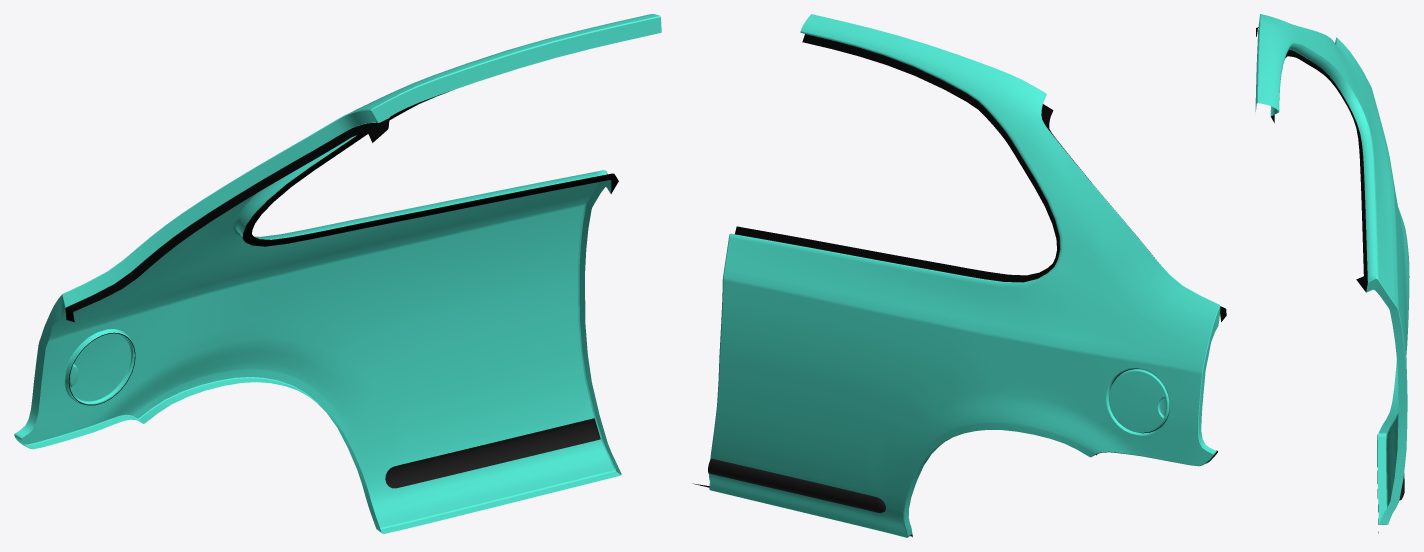
The picture shows the model from 3 angles, left to right: view 1: azimuth 30°, elevation 25°; view 2: azimuth 150°, elevation 25°; view 3: azimuth 270°, elevation 25°; orthographic projection. The views are drawn at different scales.
Visible parts, largest first — view 1: H025_10_381B_L_H025_10_381B_L_1_DaS, H025_10_381B_L_3_D_H025_10_381B_L, H025_10_381B_L_H025_10_381B_L_2_D, H025_10_381B_L_H025_10_381B_L_1_DaS_E; view 2: H025_10_381B_L_H025_10_381B_L_1_DaS, H025_10_381B_L_3_D_H025_10_381B_L, H025_10_381B_L_H025_10_381B_L_1_DaS_E, H025_10_381B_L_H025_10_381B_L_2_D; view 3: H025_10_381B_L_H025_10_381B_L_1_DaS, H025_10_381B_L_3_D_H025_10_381B_L, H025_10_381B_L_H025_10_381B_L_1_DaS_E.
Boxes of the visible parts, x1,y1,x2,y2 form: H025_10_381B_L_H025_10_381B_L_1_DaS: (14, 14, 661, 534); H025_10_381B_L_3_D_H025_10_381B_L: (65, 91, 618, 405); H025_10_381B_L_H025_10_381B_L_2_D: (385, 418, 600, 488); H025_10_381B_L_H025_10_381B_L_1_DaS_E: (25, 16, 660, 529); H025_10_381B_L_H025_10_381B_L_1_DaS: (709, 14, 1220, 537); H025_10_381B_L_3_D_H025_10_381B_L: (693, 34, 1226, 537); H025_10_381B_L_H025_10_381B_L_1_DaS_E: (708, 31, 1220, 537); H025_10_381B_L_H025_10_381B_L_2_D: (708, 458, 885, 513); H025_10_381B_L_H025_10_381B_L_1_DaS: (1255, 14, 1409, 524); H025_10_381B_L_3_D_H025_10_381B_L: (1256, 27, 1378, 533); H025_10_381B_L_H025_10_381B_L_1_DaS_E: (1257, 14, 1407, 523).
Size of the model in its own units: 141 by 113 by 38.36.
